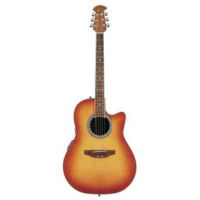guitar: (62, 4, 137, 195)
